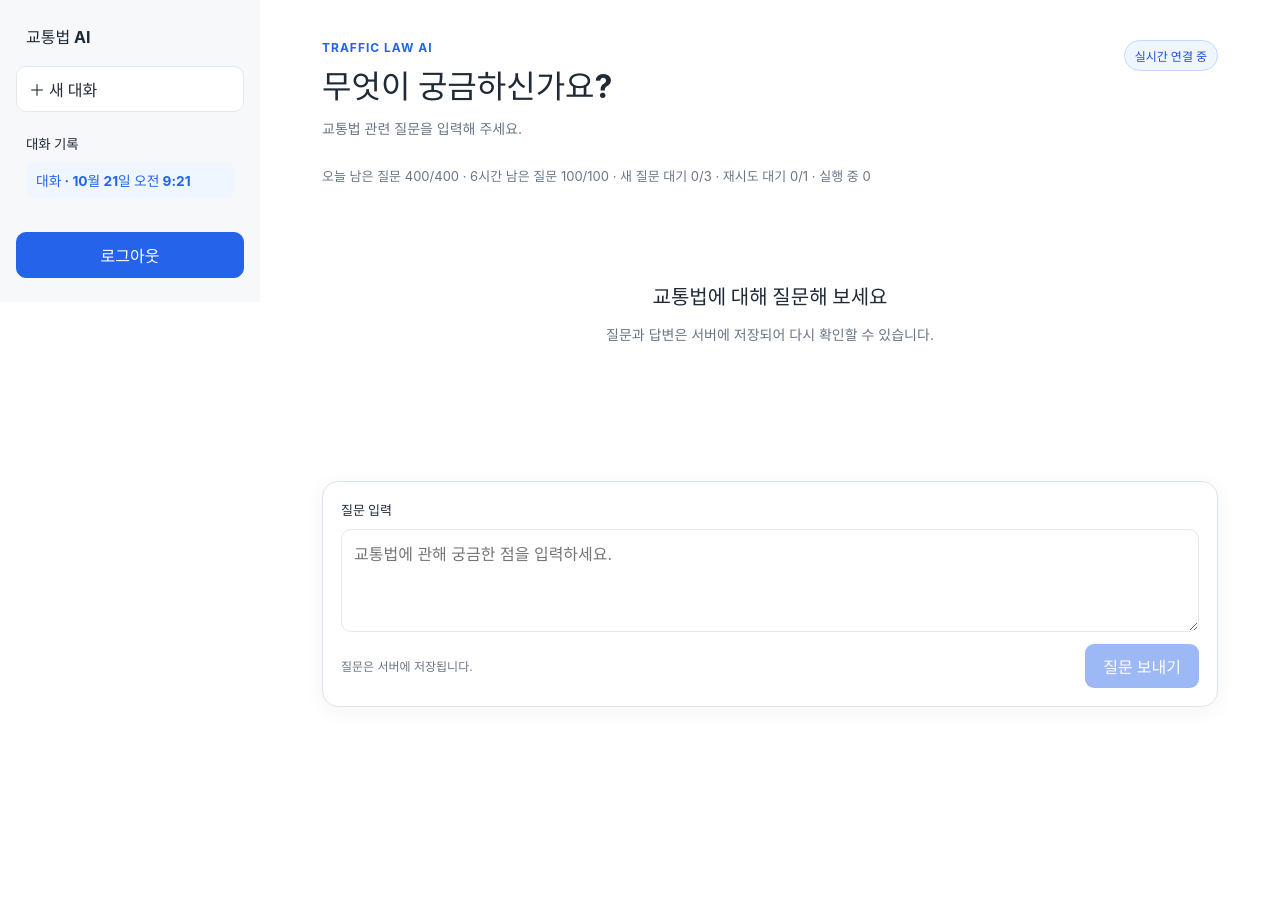
Scenario: 전송이 서버 오류로 실패하면 입력이 풀리고, 다시 보낼 때 같은 request_key와 본문을 쓴다
Type "  같은 질문  " into the text box labelled "질문 입력" at (770, 581), box 341,529 -> 1199,632
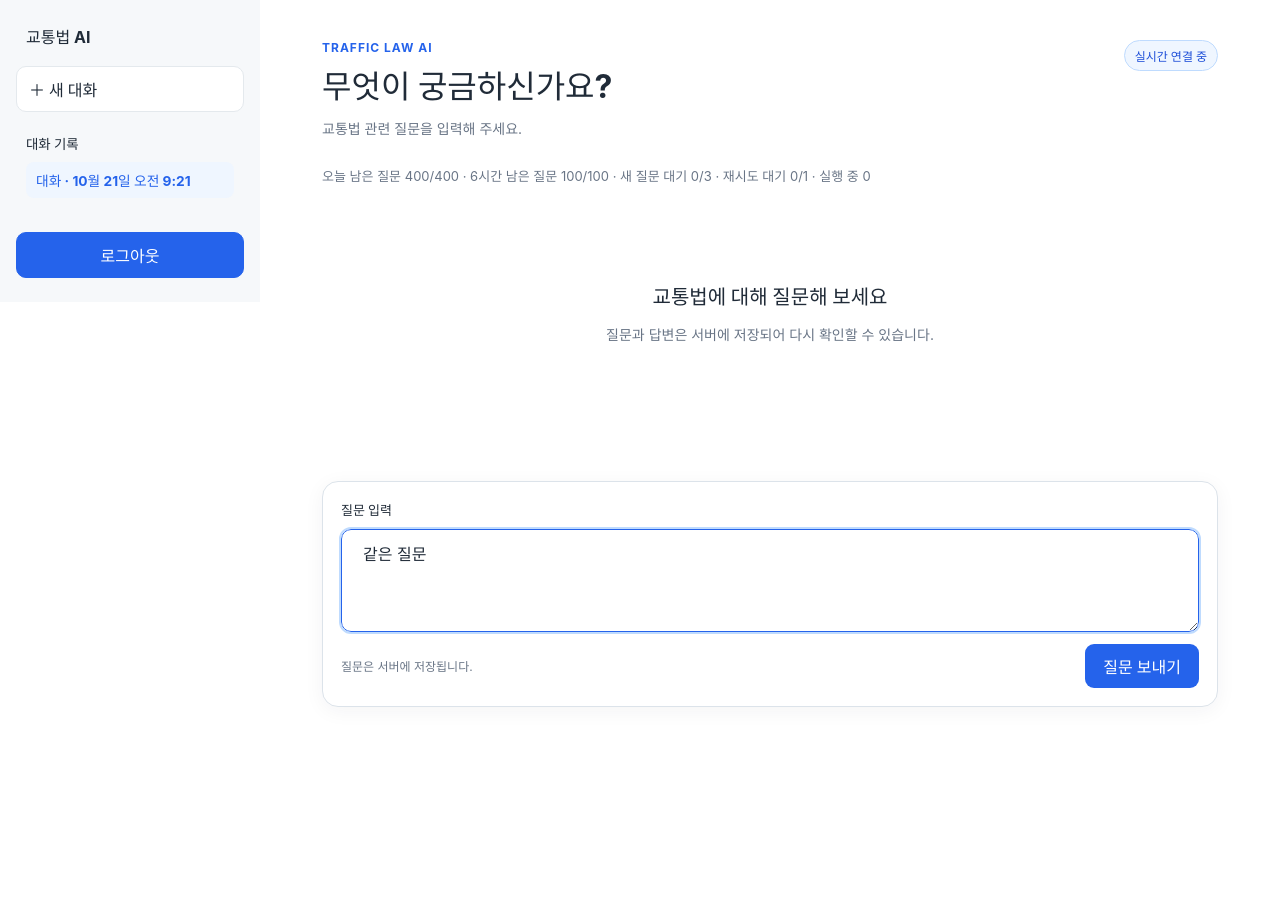
Click the button "질문 보내기" at (1142, 666), box 1085,644 -> 1199,688
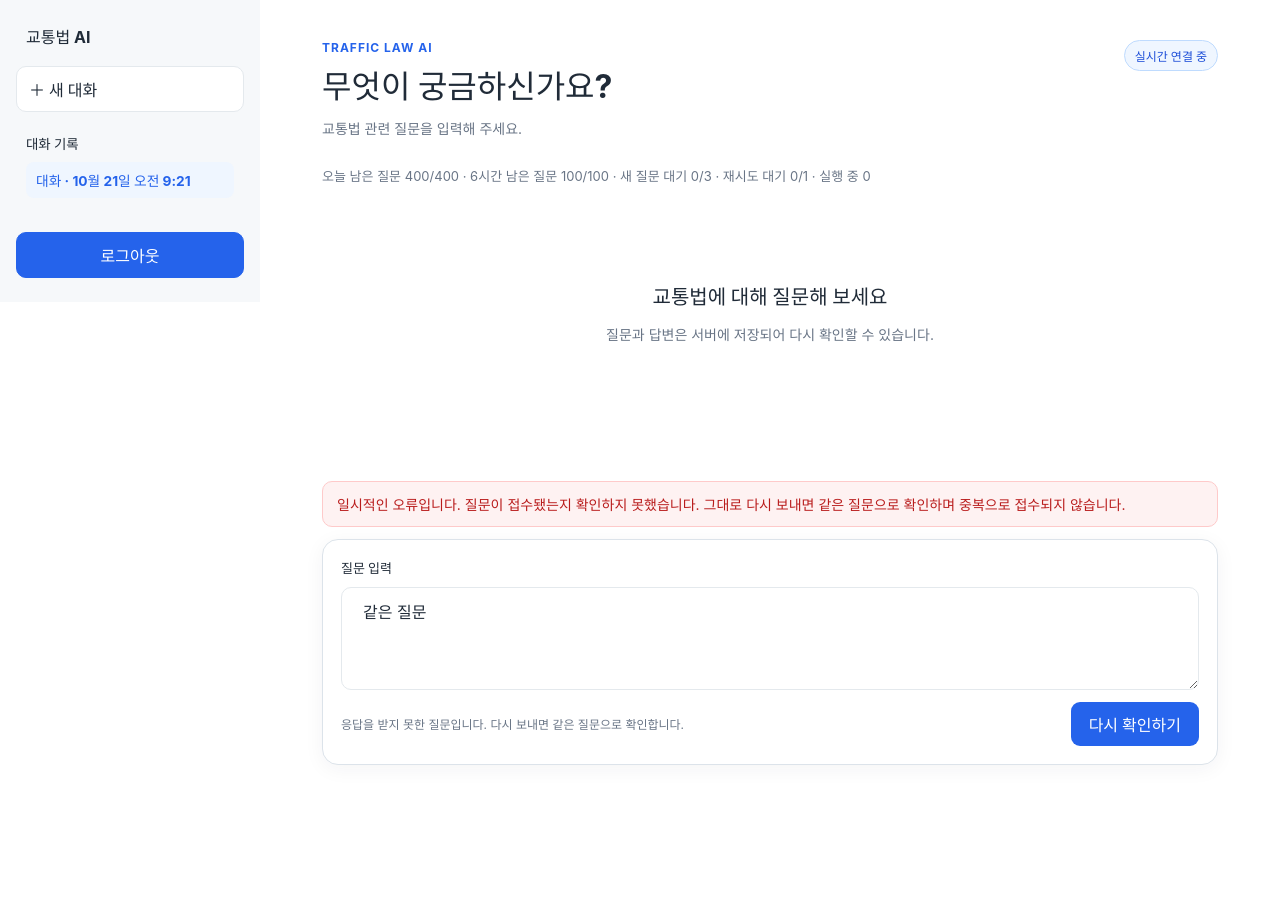
Expected: the text box labelled "질문 입력" is enabled, 341,587 -> 1199,690
Expected: the message "일시적인 오류입니다. 질문이 접수됐는지 확인하지 못했습니다. 그대로 다시 보내면 같은 질문으로 확인하며 중복으로 접수되지 않습니다." is shown, 322,481 -> 1218,527
Expected: the button "다시 확인하기" is shown
Click the button "다시 확인하기" at (1135, 724), box 1071,702 -> 1199,746
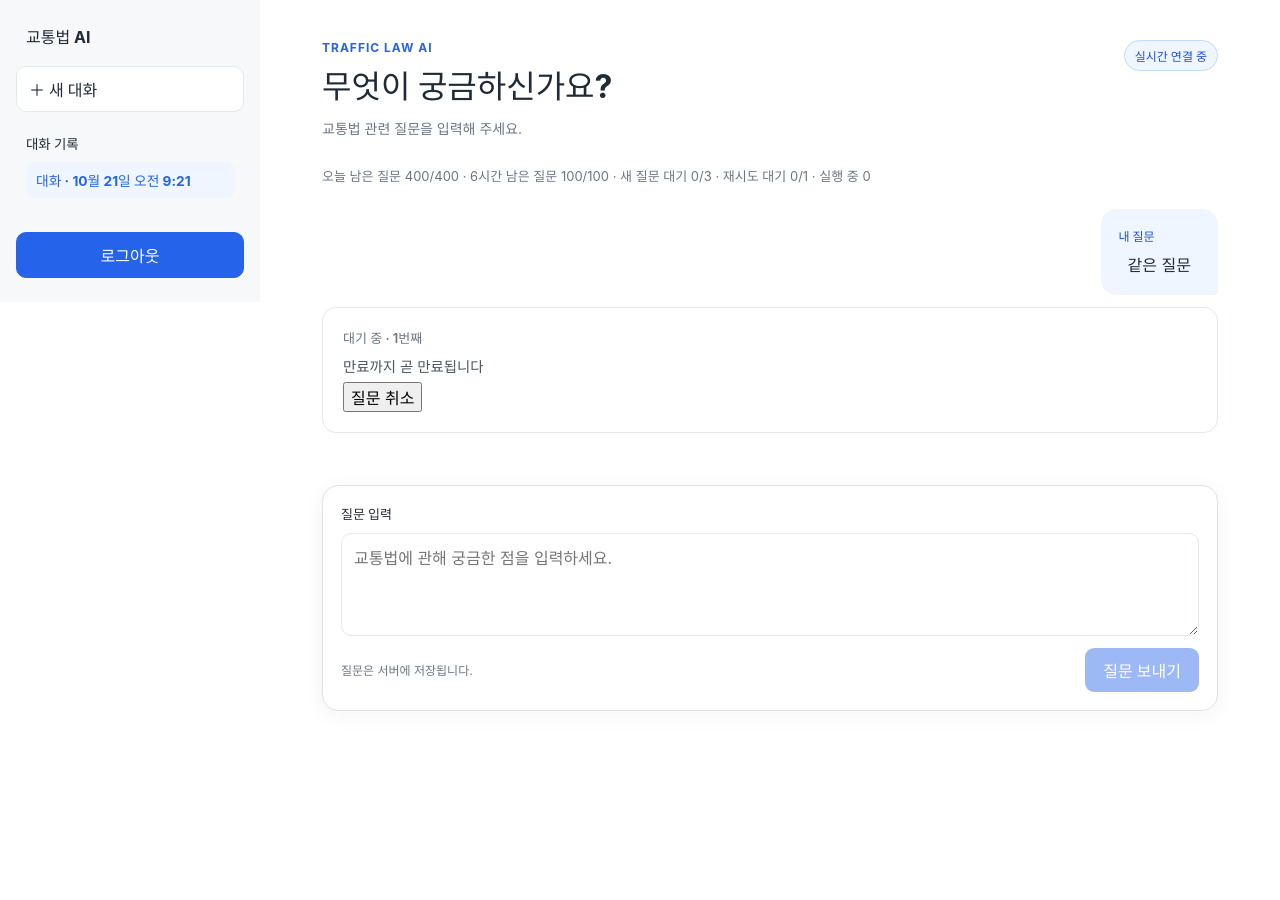
Expected: the text "같은 질문" is shown, 1119,253 -> 1200,279
